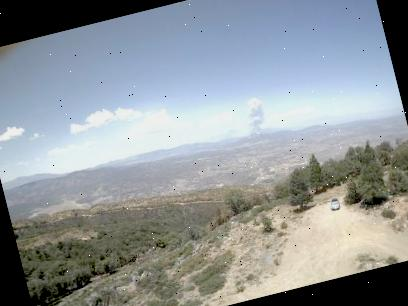smoke: (237, 93, 273, 140)
